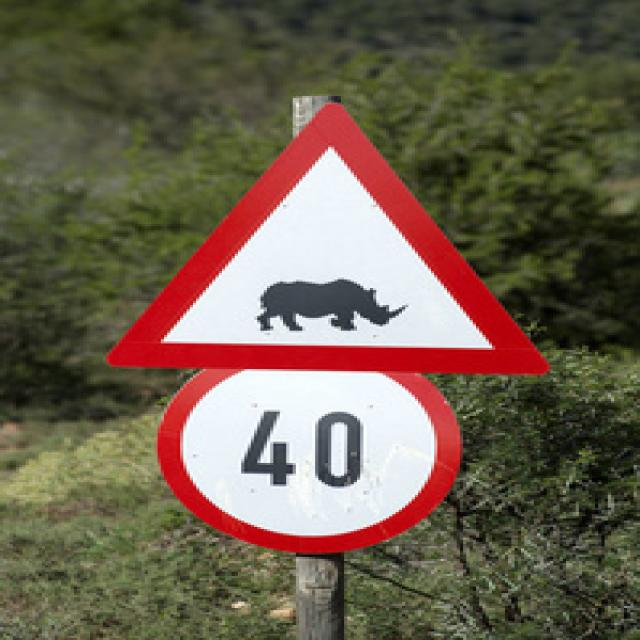speed limit 40: (155, 365, 459, 555)
